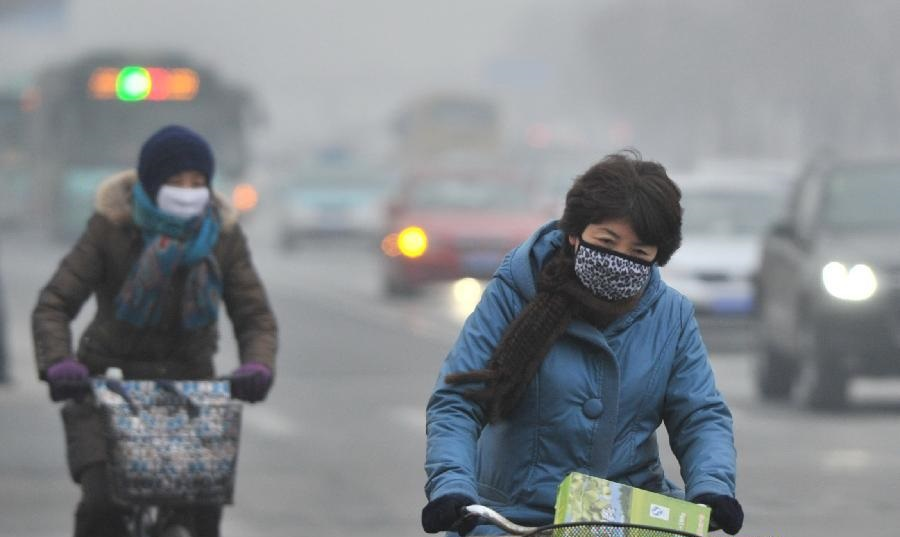face_mask: (572, 216, 655, 304), (153, 168, 208, 221)
